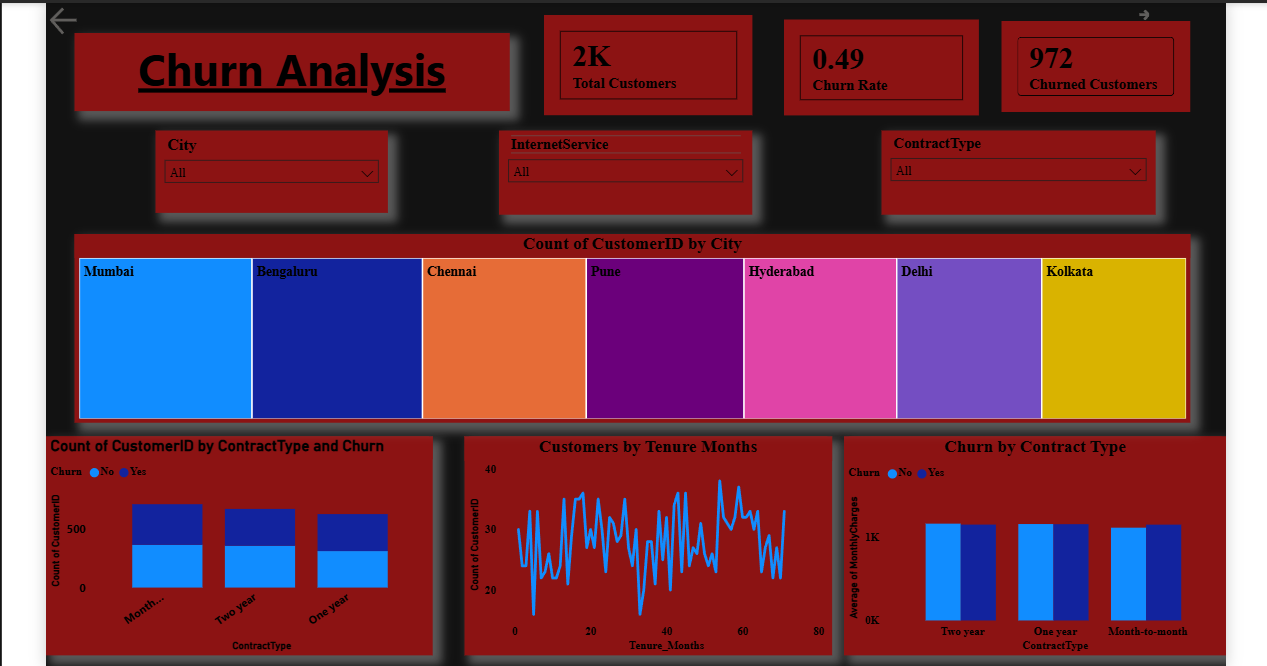

Layout of this report page (visuals, bound fields, positions):
{"tool":"powerbi","page":{"name":"Churn Analysis","canvas":[1280,720],"ordinal":2},"visuals":[{"type":"columnChart","fields":{"Category":["churn_analysis.ContractType"],"Series":["churn_analysis.Churn"],"Y":["CountNonNull(churn_analysis.CustomerID)"]},"box":[0,470.1,419.6,237.5],"z":0},{"type":"lineChart","title":"Customers by Tenure Months","fields":{"Category":["churn_analysis.Tenure_Months"],"Y":["CountNonNull(churn_analysis.CustomerID)"]},"box":[453.8,470.1,398.5,237.5],"z":1000},{"type":"clusteredColumnChart","title":"Churn by Contract Type","fields":{"Series":["churn_analysis.Churn"],"Category":["churn_analysis.ContractType"],"Y":["Avg(churn_analysis.MonthlyCharges)"]},"box":[865.3,470.1,414.8,237.5],"z":2000},{"type":"treemap","fields":{"Group":["churn_analysis.City"],"Values":["CountNonNull(churn_analysis.CustomerID)"]},"box":[30.9,250.5,1210.1,204.9],"z":3000},{"type":"cardVisual","fields":{"Data":["churn_analysis.Churn Rate"]},"box":[800.3,17.9,211.5,104.1],"z":4000},{"type":"cardVisual","fields":{"Data":["churn_analysis.Churned Customers"]},"box":[1036.5,19,204.8,98.4],"z":5000},{"type":"cardVisual","fields":{"Data":["churn_analysis.Total Customers"]},"box":[540,13,226.1,109],"z":6000},{"type":"slicer","fields":{"Values":["churn_analysis.City"]},"box":[118.7,138.3,252.1,89.5],"z":7000},{"type":"slicer","fields":{"Values":["churn_analysis.InternetService"]},"box":[491.2,138.3,274.9,91.1],"z":8000},{"type":"slicer","fields":{"Values":["churn_analysis.ContractType"]},"box":[906,138.3,297.7,91.1],"z":9000},{"type":"textbox","box":[30.9,32.5,471.7,84.6],"z":10000},{"type":"actionButton","box":[1180.9,3.3,99.2,19.5],"z":11000},{"type":"actionButton","box":[0,0,50.4,39],"z":12000}]}

Visuals, with their boxes on the page's 1280x720 design canvas (x1, y1, x2, y2). These are canvas units, not pixel positions in the 1267x666 screenshot, which may show the page scaled, cropped or inside an application window:
columnChart - churn_analysis.ContractType x churn_analysis.Churn: <region>0, 470, 420, 708</region>
"Customers by Tenure Months" lineChart: <region>454, 470, 852, 708</region>
"Churn by Contract Type" clusteredColumnChart: <region>865, 470, 1280, 708</region>
treemap - churn_analysis.City x CountNonNull(churn_analysis.CustomerID): <region>31, 250, 1241, 455</region>
cardVisual - churn_analysis.Churn Rate: <region>800, 18, 1012, 122</region>
cardVisual - churn_analysis.Churned Customers: <region>1036, 19, 1241, 117</region>
cardVisual - churn_analysis.Total Customers: <region>540, 13, 766, 122</region>
slicer - churn_analysis.City: <region>119, 138, 371, 228</region>
slicer - churn_analysis.InternetService: <region>491, 138, 766, 229</region>
slicer - churn_analysis.ContractType: <region>906, 138, 1204, 229</region>
textbox: <region>31, 32, 503, 117</region>
actionButton: <region>1181, 3, 1280, 23</region>
actionButton: <region>0, 0, 50, 39</region>
